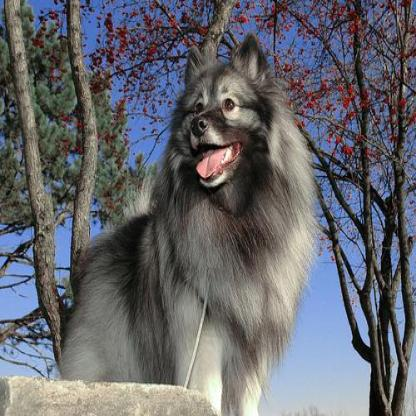keeshond: (62, 33, 317, 413)
